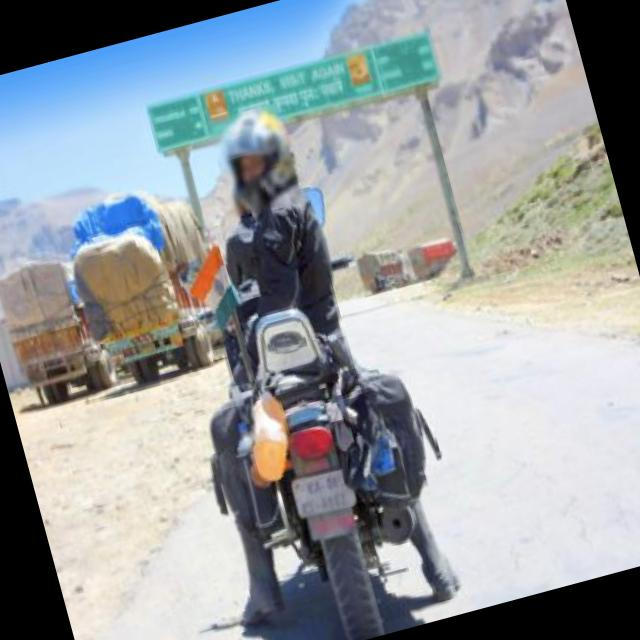With Helmet: (208, 102, 306, 220)
